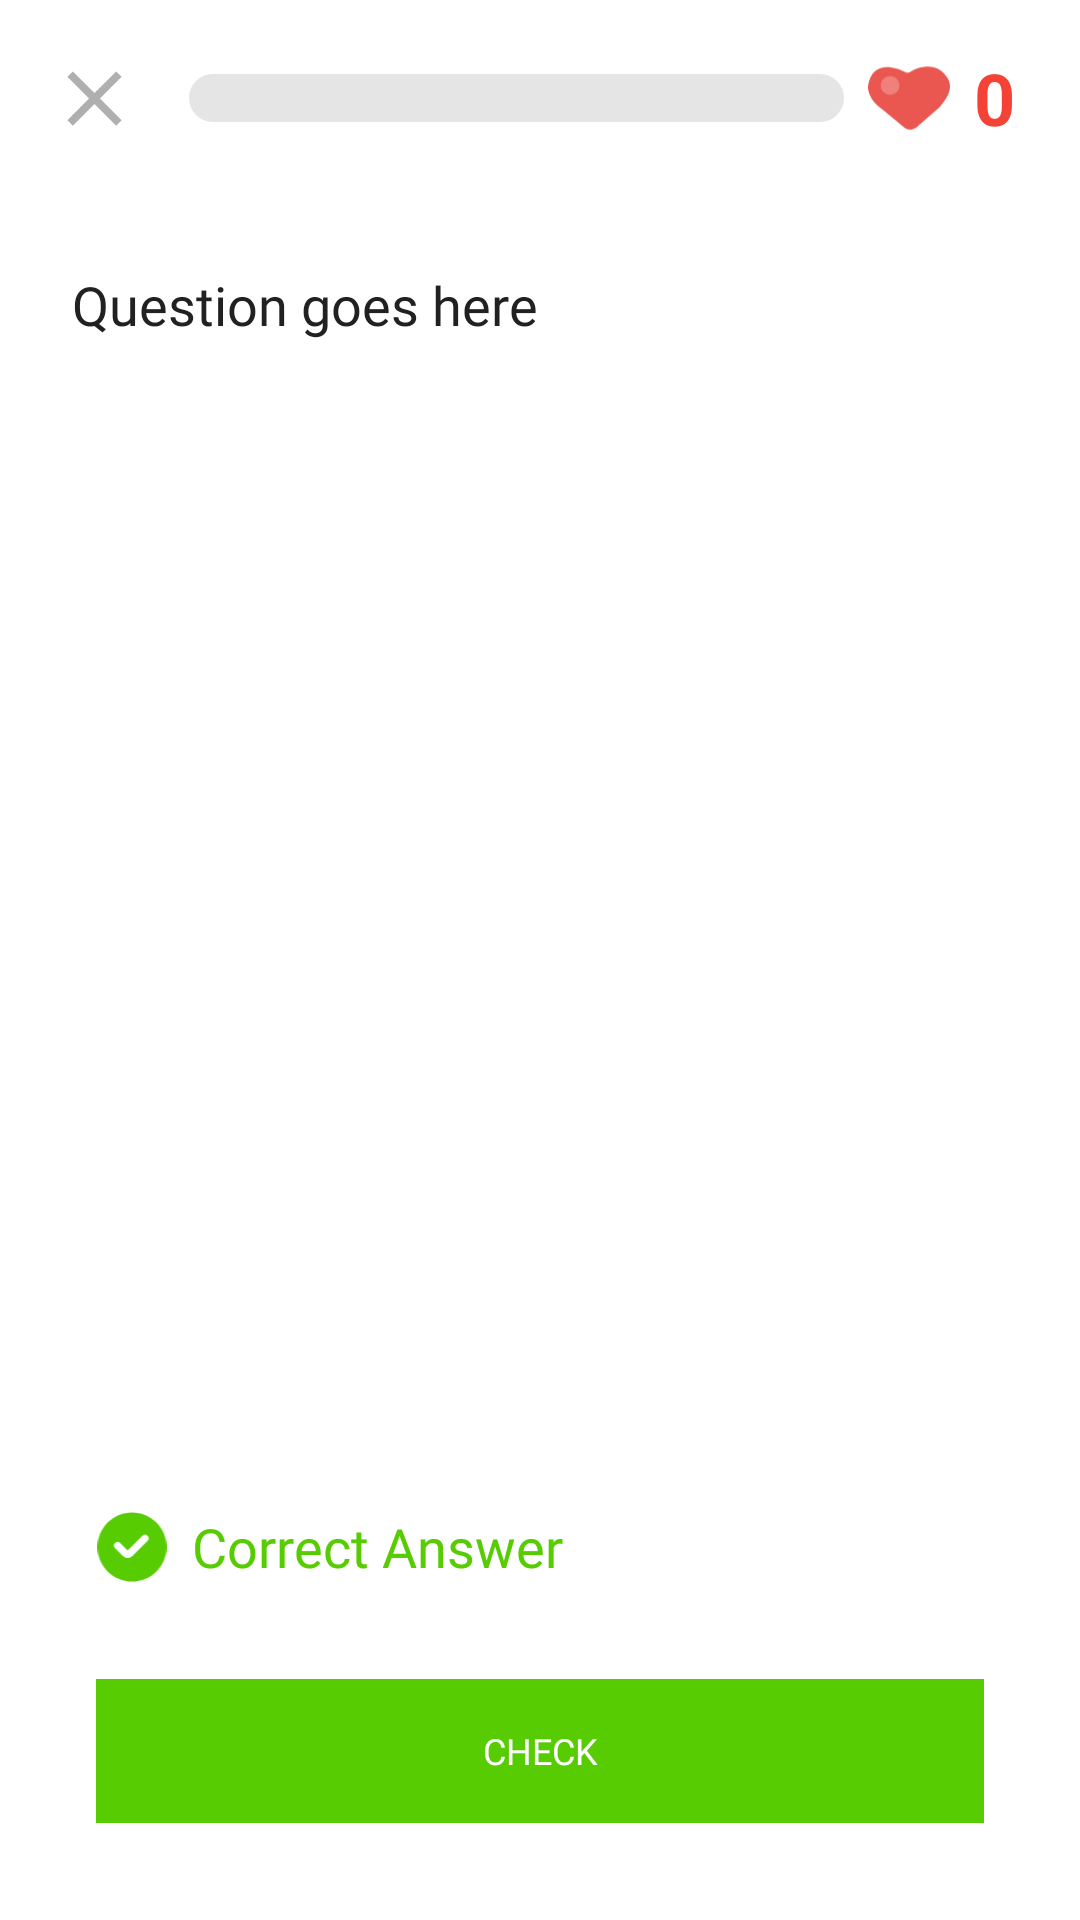

Icons on this 1080×1920 Android screen, each with the point to tap as point (x, y):
close: point (94, 99)
heart: point (909, 98)
